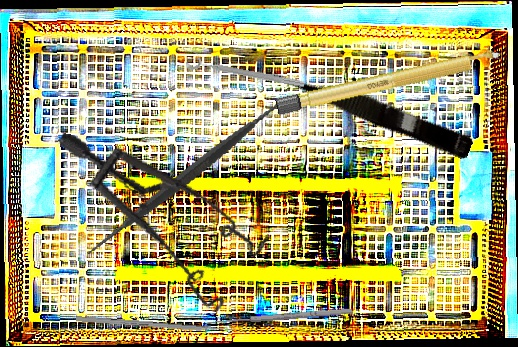Fixation Ring: (185, 48, 307, 92)
Hook Surgical: (203, 305, 354, 334)
Micro Scissor: (260, 55, 476, 161)
Pusher: (75, 316, 246, 334)
Scalpel Handle: (274, 46, 506, 116)
Spatula Surgical: (70, 57, 306, 292)
Speculum: (30, 132, 283, 320)
